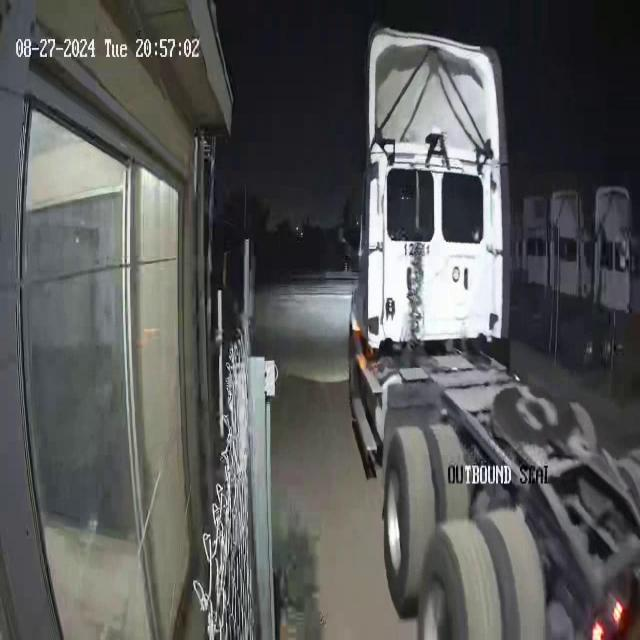TRUCK_OUT: (347, 23, 639, 637)
